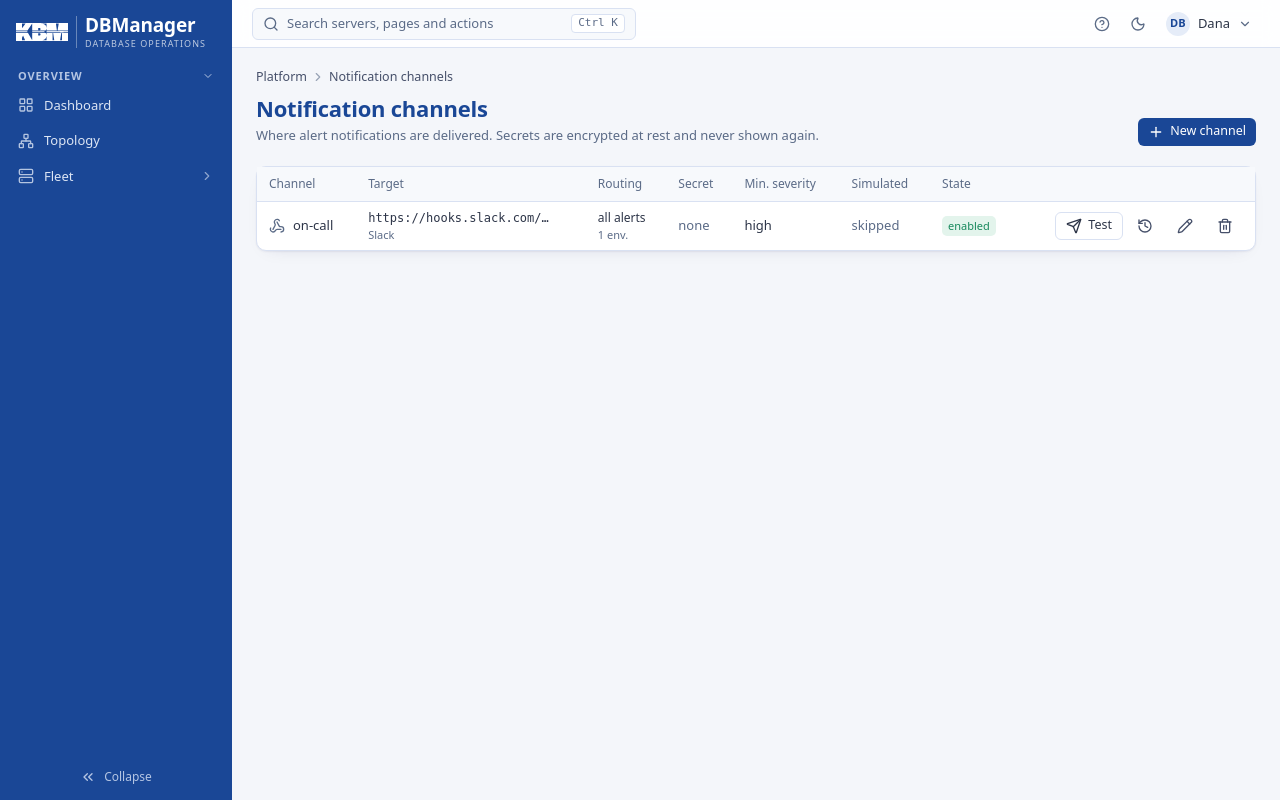
Scenario: alerting UI › sends a test notification and shows the delivery log with a retrying row
Check: the text "Slack" is shown, box [368,227,394,242]
Check: the text "all alerts" is shown, box [598,209,646,226]
Click the button "Test". click: (1089, 226)
box: [1055,212,1123,240]
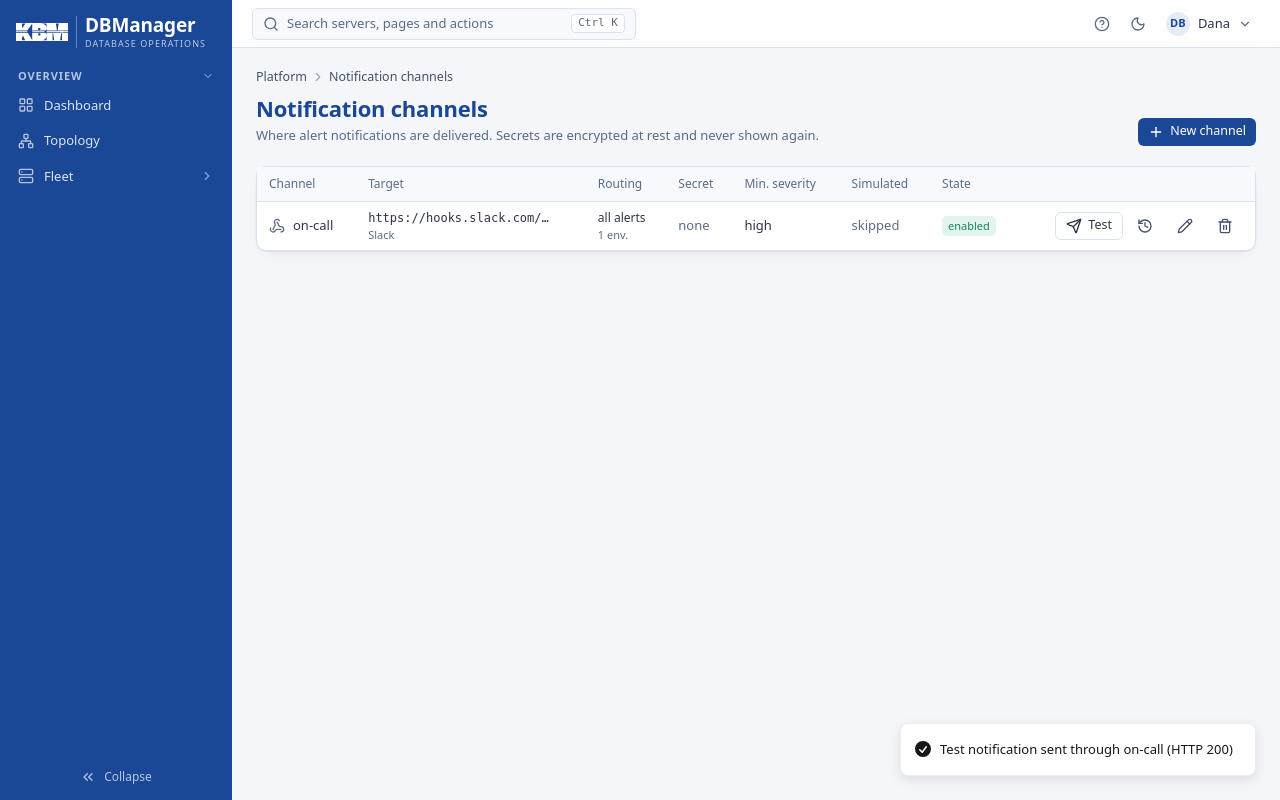
Check: the text "Test notification sent through on-call (HTTP 200)" is shown, box [940,740,1233,759]
Click the button named "Delivery log of on-call". click: (1145, 226)
box: [1127,212,1163,240]
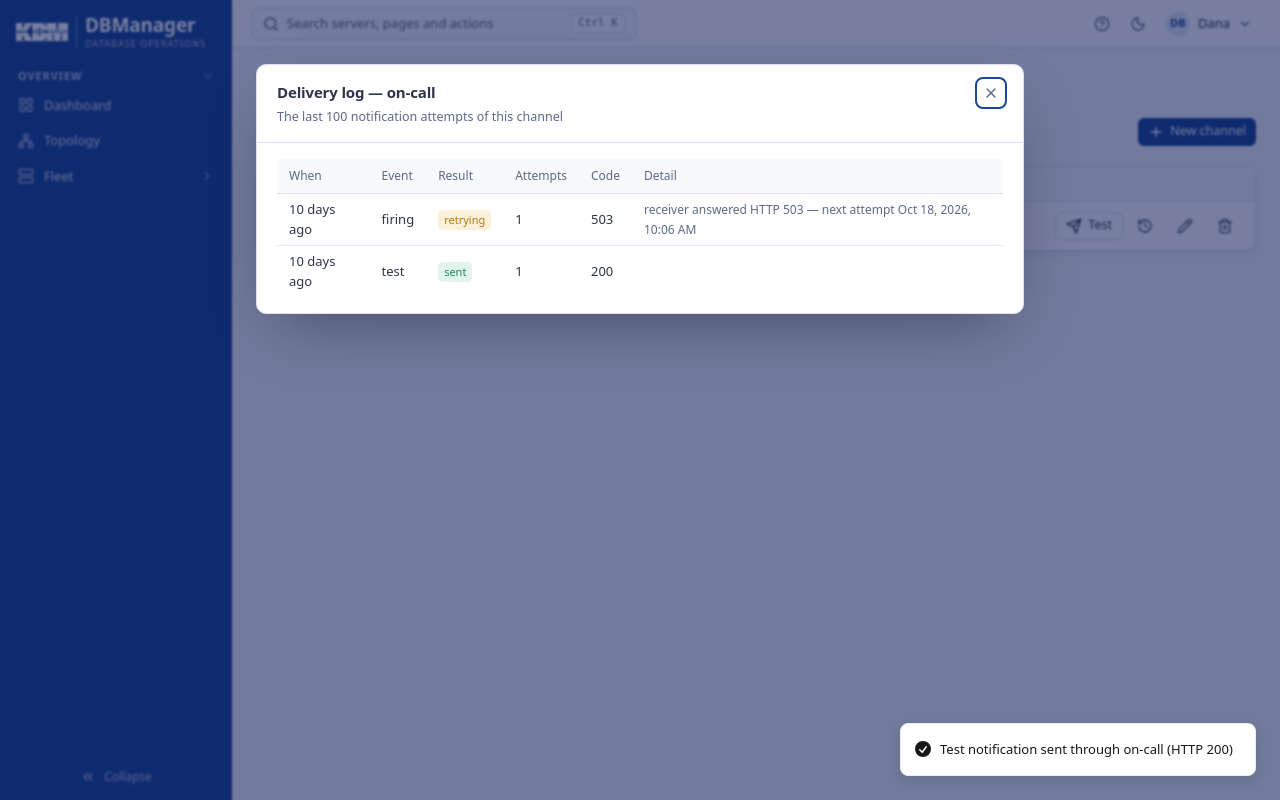
Check: the text "retrying" is shown, box [438,210,491,230]
Check: the text "receiver answered HTTP 503 — next attempt" is shown, box [644,201,971,238]
